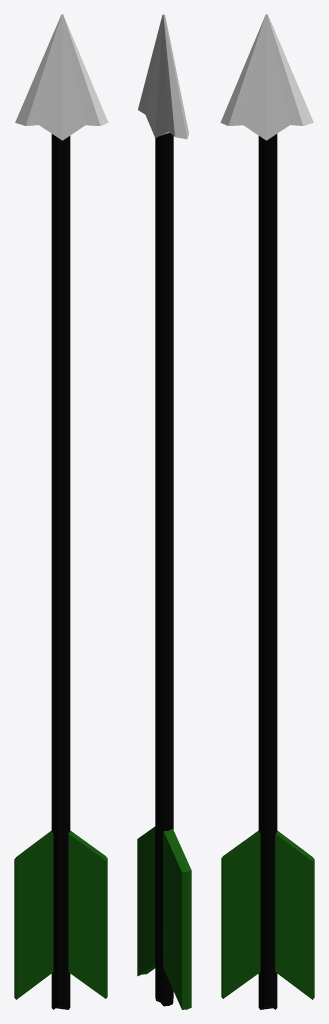
The model's file is Arrow.fbx.
The picture shows the model from 3 angles, left to right: view 1: azimuth 90°, elevation 25°; view 2: azimuth 210°, elevation 25°; view 3: azimuth 270°, elevation 25°; orthographic projection.
Visible parts, largest first — view 1: Flecha; view 2: Flecha; view 3: Flecha.
Boxes of the visible parts, x1,y1,x2,y2 form: Flecha: [14, 14, 108, 1009]; Flecha: [137, 14, 191, 1009]; Flecha: [220, 14, 314, 1009].
Size of the model in its own units: 2.35 by 128 by 10.99.
